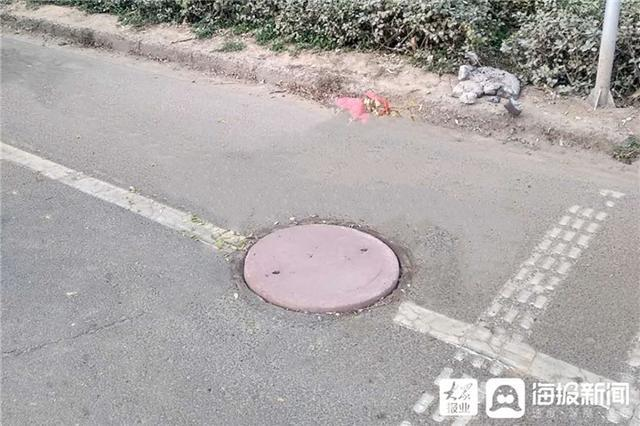good: (224, 208, 431, 325)
